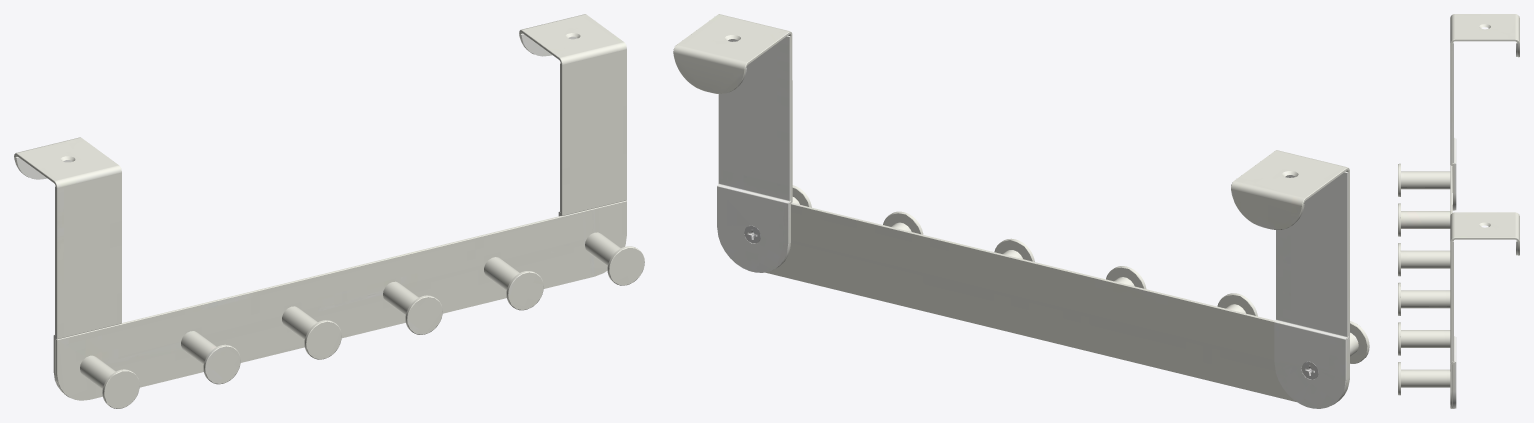
The model's file is ENUDDEN patère porte blanc.glb.
The picture shows the model from 3 angles, left to right: view 1: azimuth 30°, elevation 25°; view 2: azimuth 150°, elevation 25°; view 3: azimuth 270°, elevation 25°; orthographic projection. The views are drawn at different scales.
Parts seen in each view (by area): view 1: model; view 2: model; view 3: model.
Boxes of the visible parts, x1,y1,x2,y2 form: model: (14, 14, 644, 408); model: (673, 14, 1369, 408); model: (1398, 14, 1519, 408).
Size of the model in its own units: 0.35 by 0.132 by 0.0805.
1 material, 1 textured.
